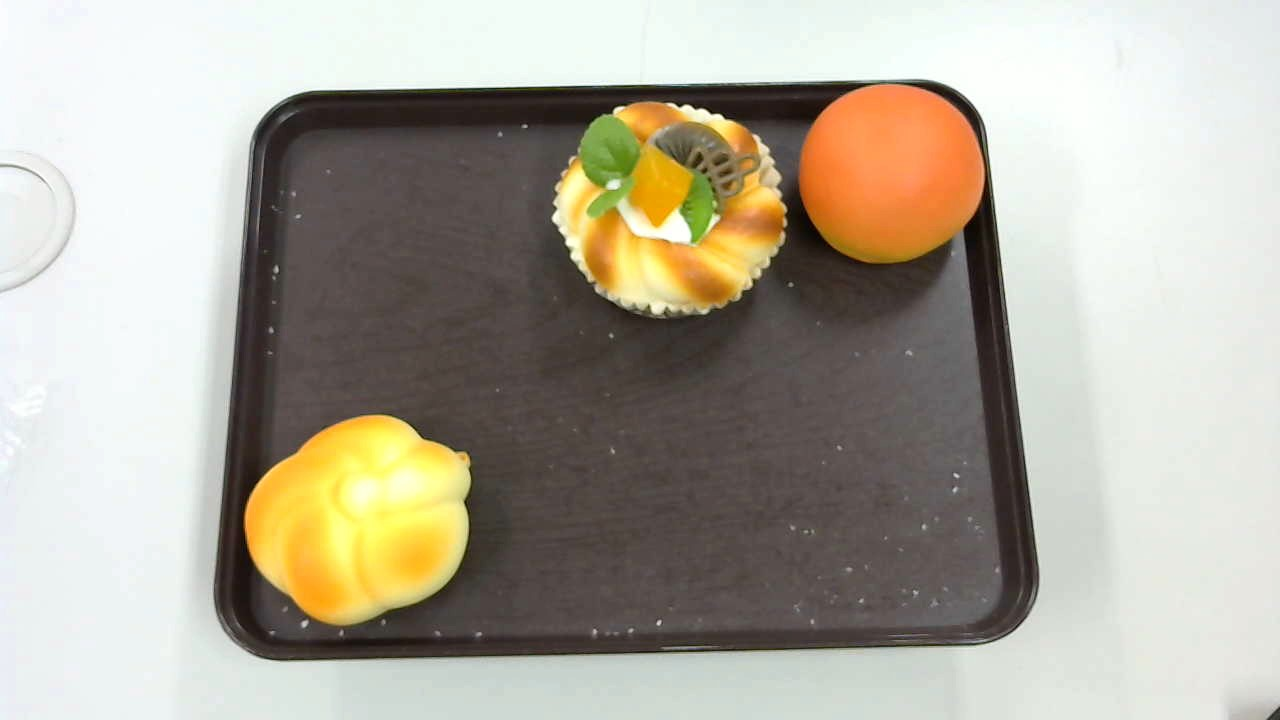bun: (798, 85, 984, 262)
croissant: (242, 414, 471, 626)
fruit tart: (551, 99, 788, 316)
